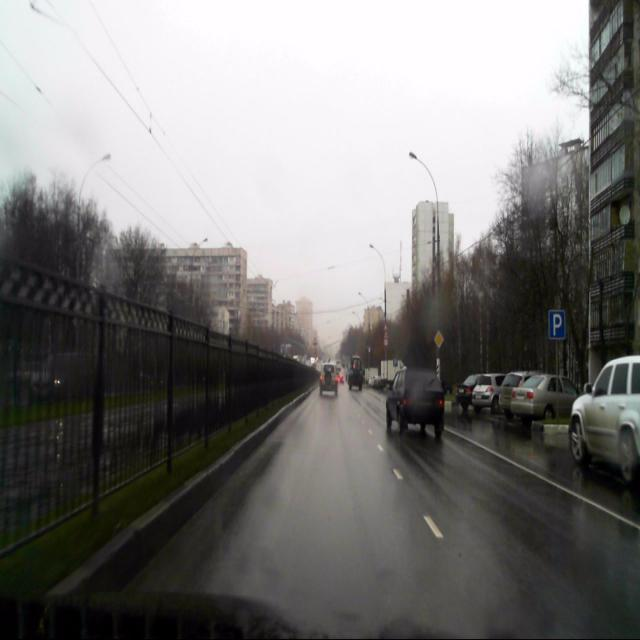road sign: (548, 310, 564, 339), (434, 330, 444, 348)
